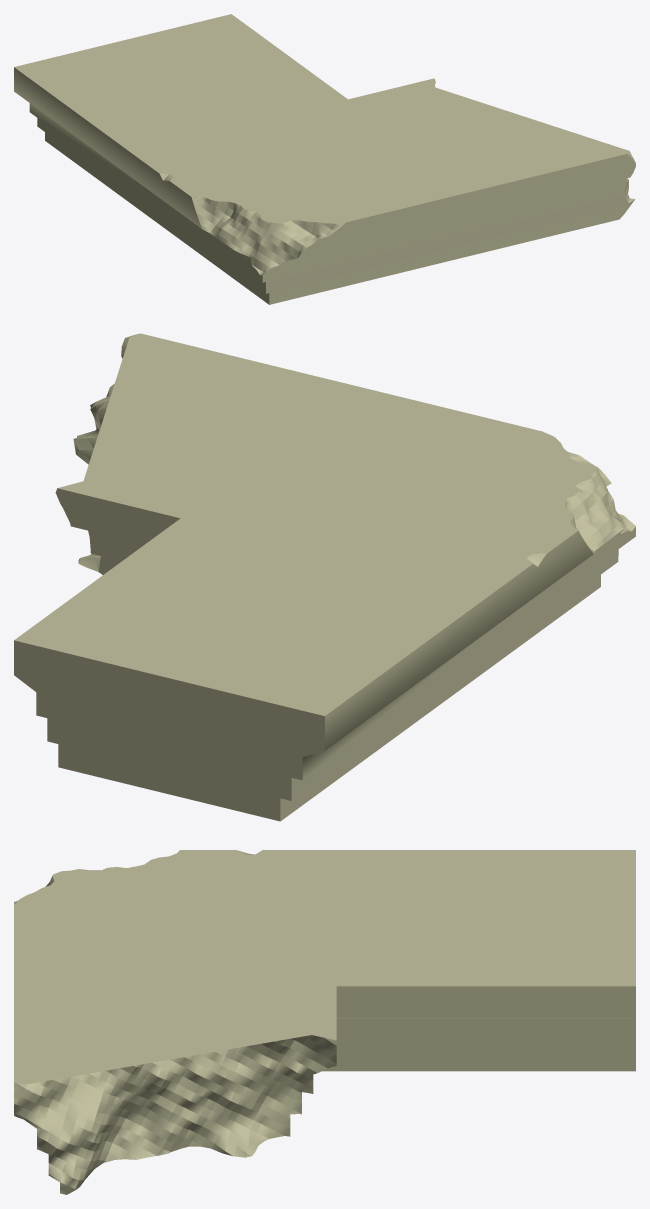
The model's file is M_Architrave_Corner_D11_1.fbx.
3 renders of one model, top to bottom at view 1: azimuth 30°, elevation 25°; view 2: azimuth 150°, elevation 25°; view 3: azimuth 270°, elevation 25°, orthographic. The views are drawn at different scales.
Visible parts, largest first — view 1: M_Architrave; view 2: M_Architrave; view 3: M_Architrave.
Boxes of the visible parts, <box> form: M_Architrave: <box>14,14,635,304</box>; M_Architrave: <box>14,333,635,821</box>; M_Architrave: <box>14,850,635,1194</box>.
Bounding box in the file's own units: 6.4 × 1.25 × 6.75.
